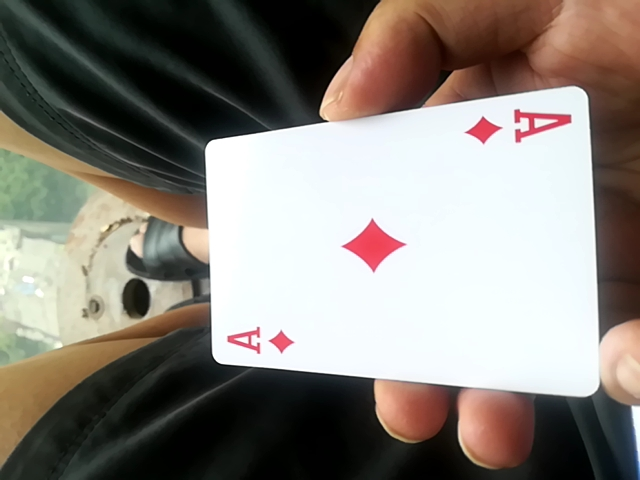fk a: (201, 90, 603, 403)
